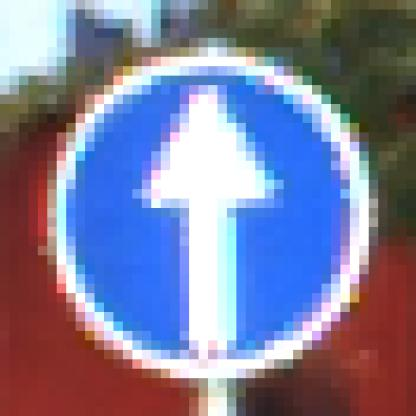AheadOnly: (48, 48, 370, 370)
